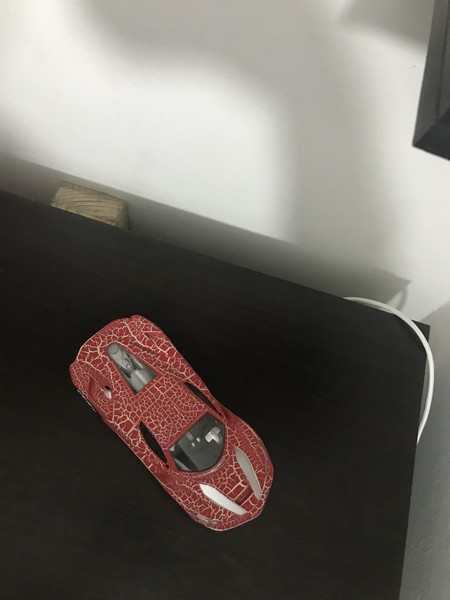RC: (68, 314, 279, 537)
